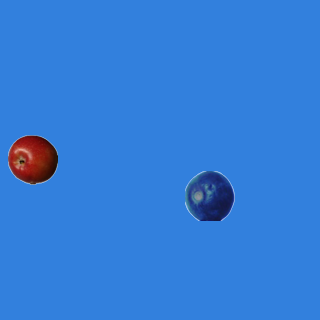Apple Braeburn: (7, 134, 57, 184)
Huckleberry: (184, 170, 234, 220)
